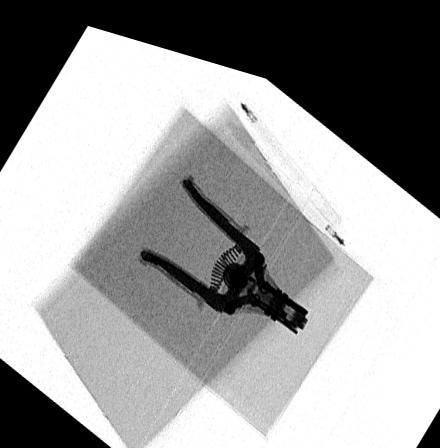Pliers: (135, 167, 308, 319)
